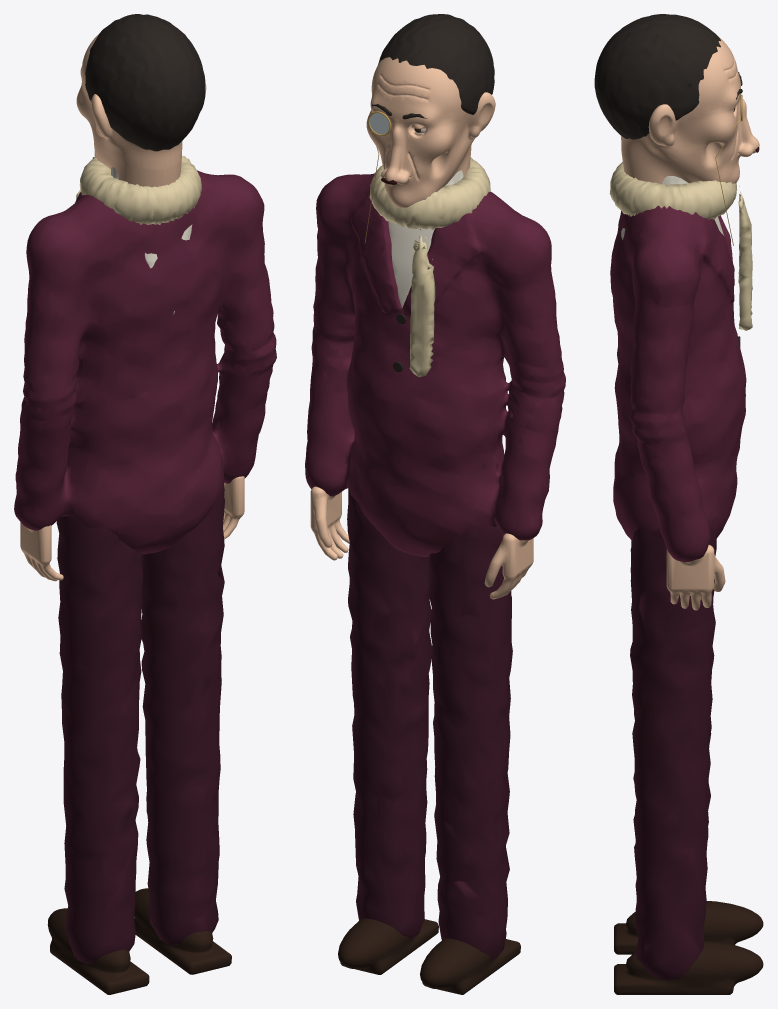
The model's file is crane.fbx.
The picture shows the model from 3 angles, left to right: view 1: azimuth 30°, elevation 25°; view 2: azimuth 150°, elevation 25°; view 3: azimuth 270°, elevation 25°; orthographic projection.
Visible parts, largest first — view 1: Body, Head, HandR, HandL; view 2: Body, Head, HandL, HandR; view 3: Body, Head, HandL.
Boxes of the visible parts, x1=… form: Body: x1=14, y1=155, x2=276, y2=994; Head: x1=76, y1=14, x2=206, y2=187; HandR: x1=20, y1=522, x2=63, y2=581; HandL: x1=223, y1=476, x2=244, y2=539; Body: x1=305, y1=157, x2=565, y2=994; Head: x1=365, y1=14, x2=495, y2=242; HandL: x1=310, y1=486, x2=349, y2=560; HandR: x1=484, y1=533, x2=533, y2=599; Body: x1=609, y1=162, x2=763, y2=994; Head: x1=594, y1=14, x2=759, y2=245; HandL: x1=666, y1=545, x2=725, y2=610.
Size of the model in its own units: 0.48 by 1.75 by 0.2824.
